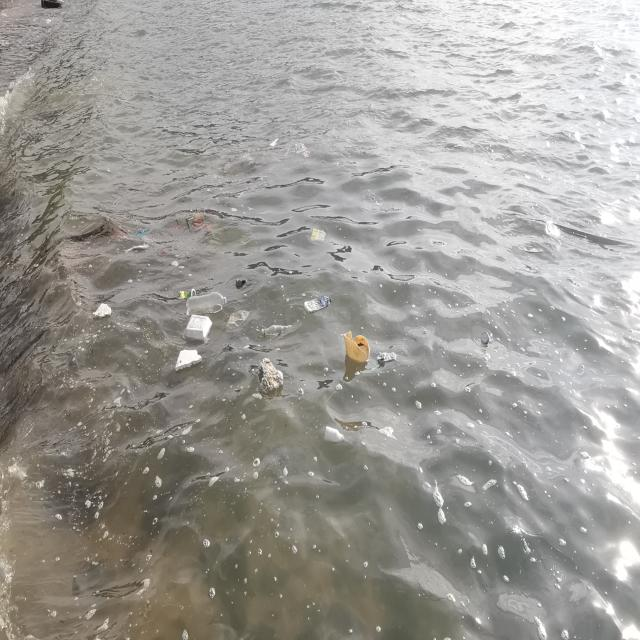can: (177, 290, 197, 302), (481, 332, 491, 344)
foam: (254, 358, 284, 394), (182, 315, 212, 342), (174, 348, 202, 372), (92, 303, 112, 319)
plastic: (186, 294, 227, 318), (304, 293, 332, 314), (323, 426, 345, 445), (261, 324, 293, 337), (236, 278, 248, 288)
plastic bottle: (343, 330, 370, 364), (228, 307, 250, 329), (311, 228, 327, 243), (377, 351, 398, 361)
unknow: (185, 211, 212, 231), (125, 243, 150, 253), (135, 225, 151, 238)
